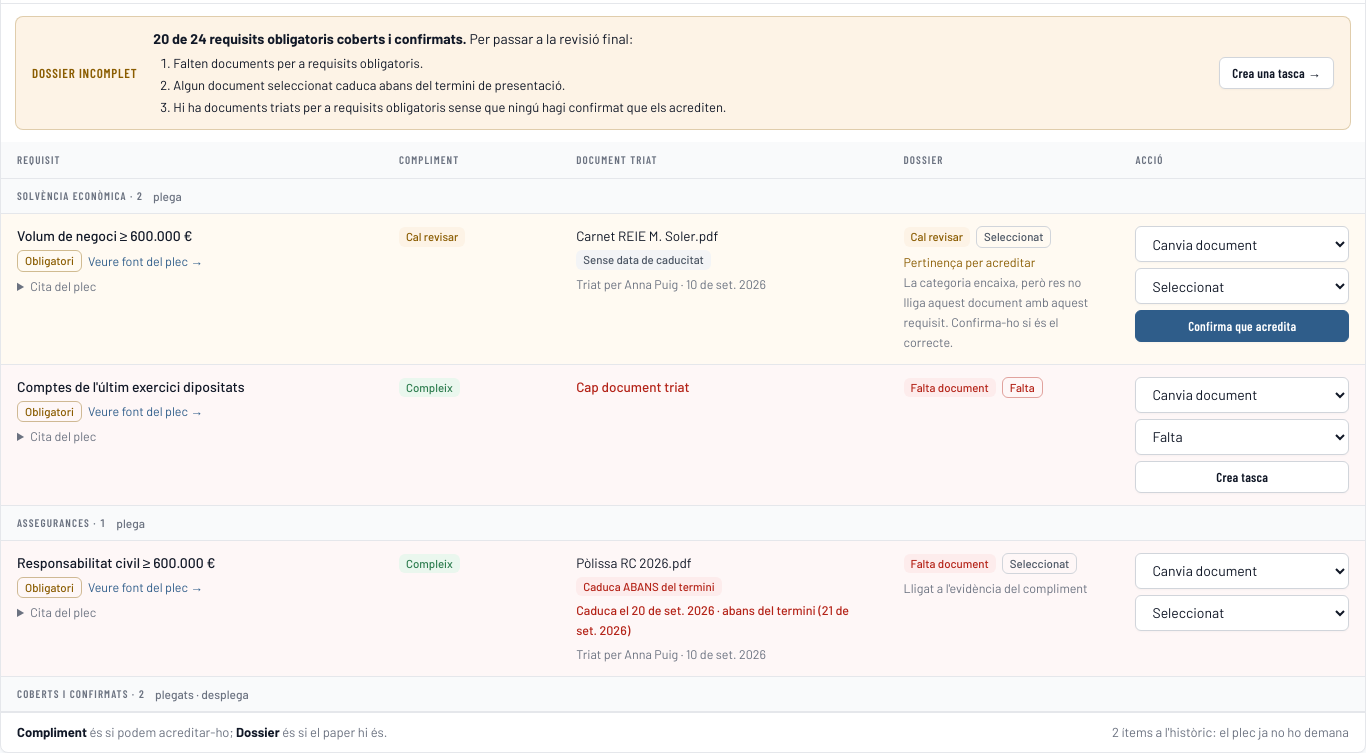
Test: DossierSection · compliment ≠ dossier, triat ≠ acreditat › una confirmació humana forma part de «Cobert» segons el backend, amb qui i quan
(page scrolled)
Note: Els coberts van plegats: es despleguen.
Click the button "Coberts i confirmats · 2 plegats · desplega" at [73, 693], box [17,685,1349,703]
(page scrolled)
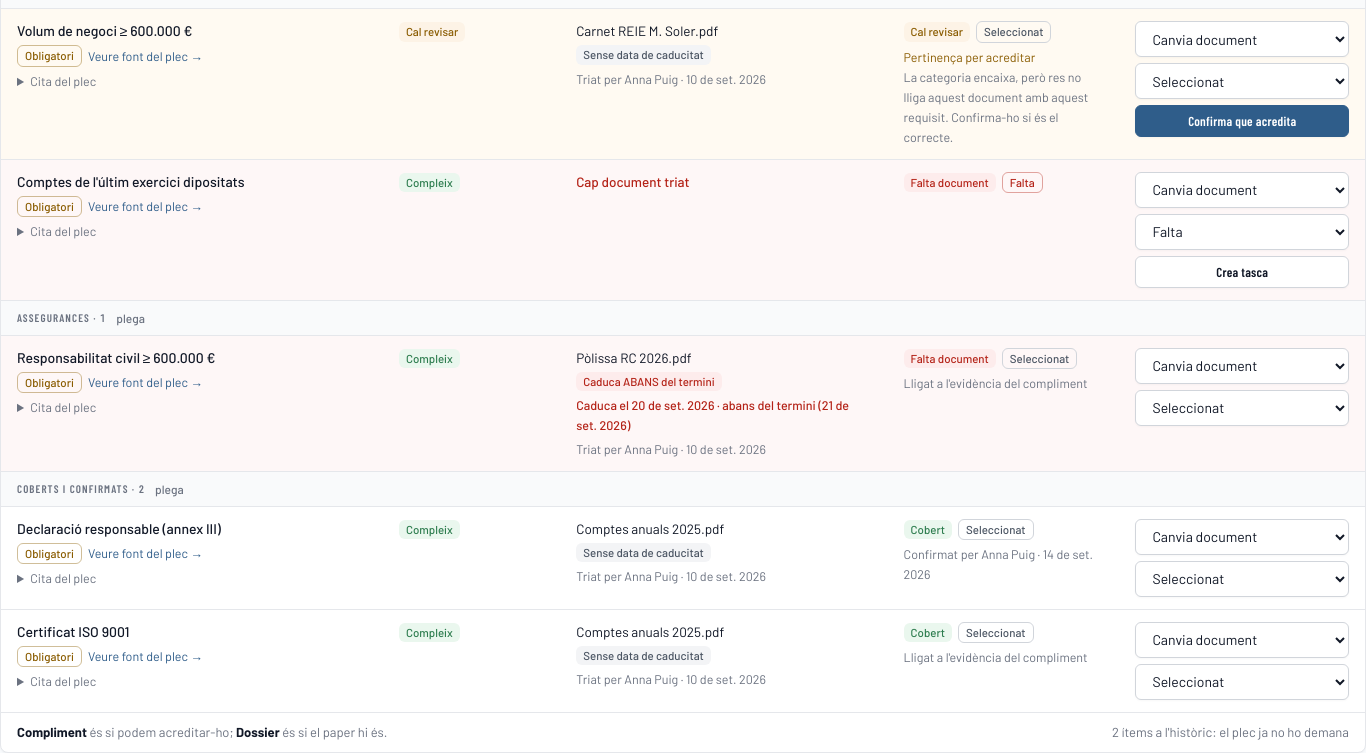
Expected: the text "Declaració responsable (annex III)" shows "Confirmat per Anna Puig", [1,506,1365,609]
Expected: the text "Declaració responsable (annex III)" shows "2026", [686,568,766,584]
